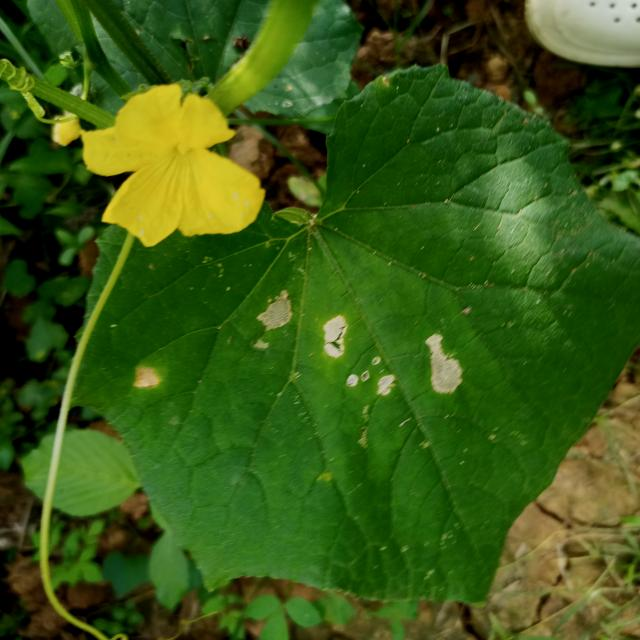disease_cucumber: (252, 287, 464, 399), (132, 366, 160, 389)
